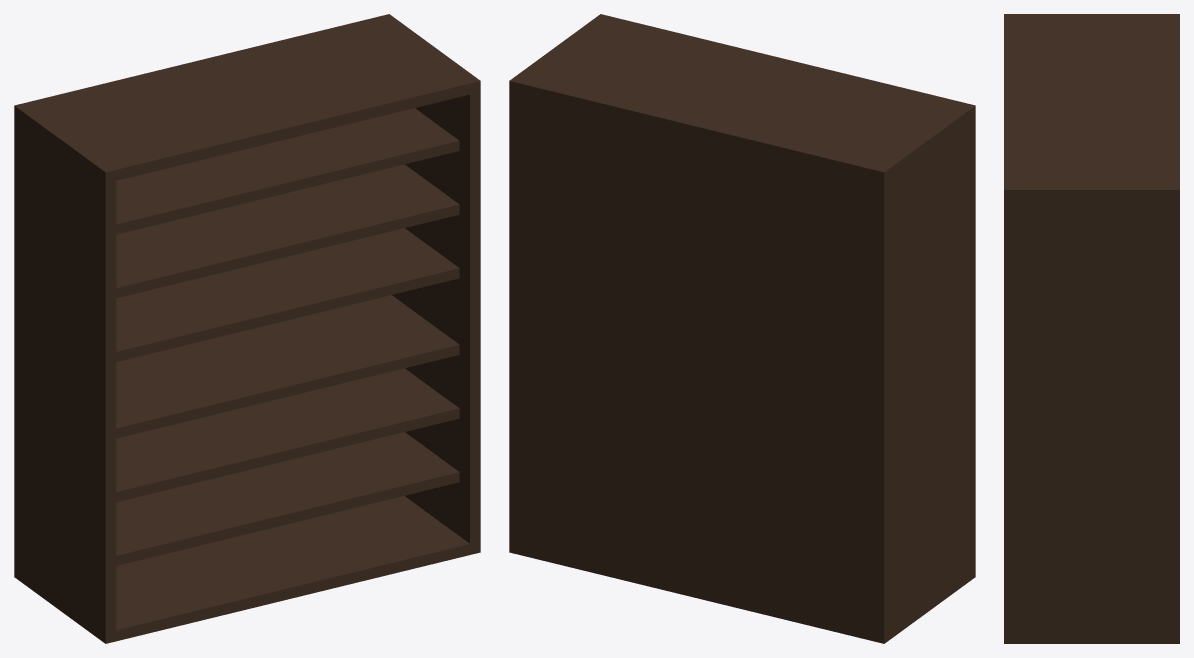
The model's file is Cabinet_big.glb.
3 renders of one model, left to right at view 1: azimuth 30°, elevation 25°; view 2: azimuth 150°, elevation 25°; view 3: azimuth 270°, elevation 25°, orthographic. The views are drawn at different scales.
Visible parts, largest first — view 1: Cube.001_Cube.010; view 2: Cube.001_Cube.010; view 3: Cube.001_Cube.010.
Boxes of the visible parts, x1,y1,x2,y2 form: Cube.001_Cube.010: [14, 14, 480, 643]; Cube.001_Cube.010: [509, 14, 975, 643]; Cube.001_Cube.010: [1004, 14, 1179, 643].
Size of the model in its own units: 6.16 by 7.4 by 2.6.
